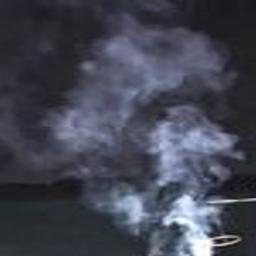smoke: (0, 5, 246, 256)
